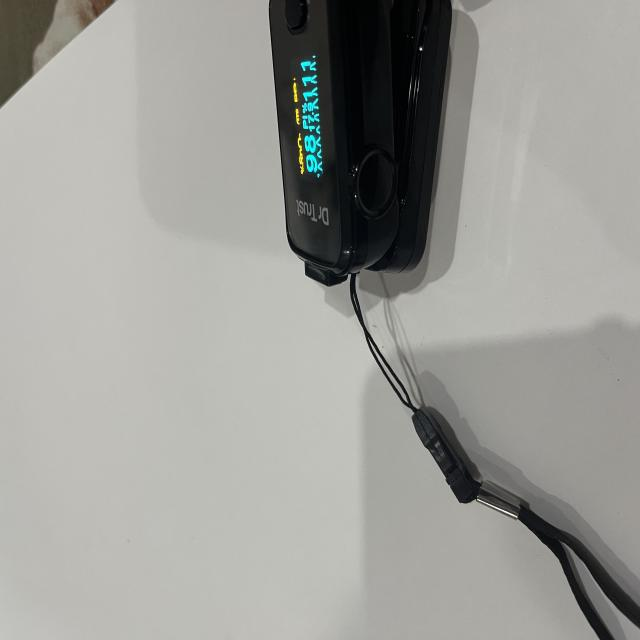spo2: (268, 0, 452, 286)
